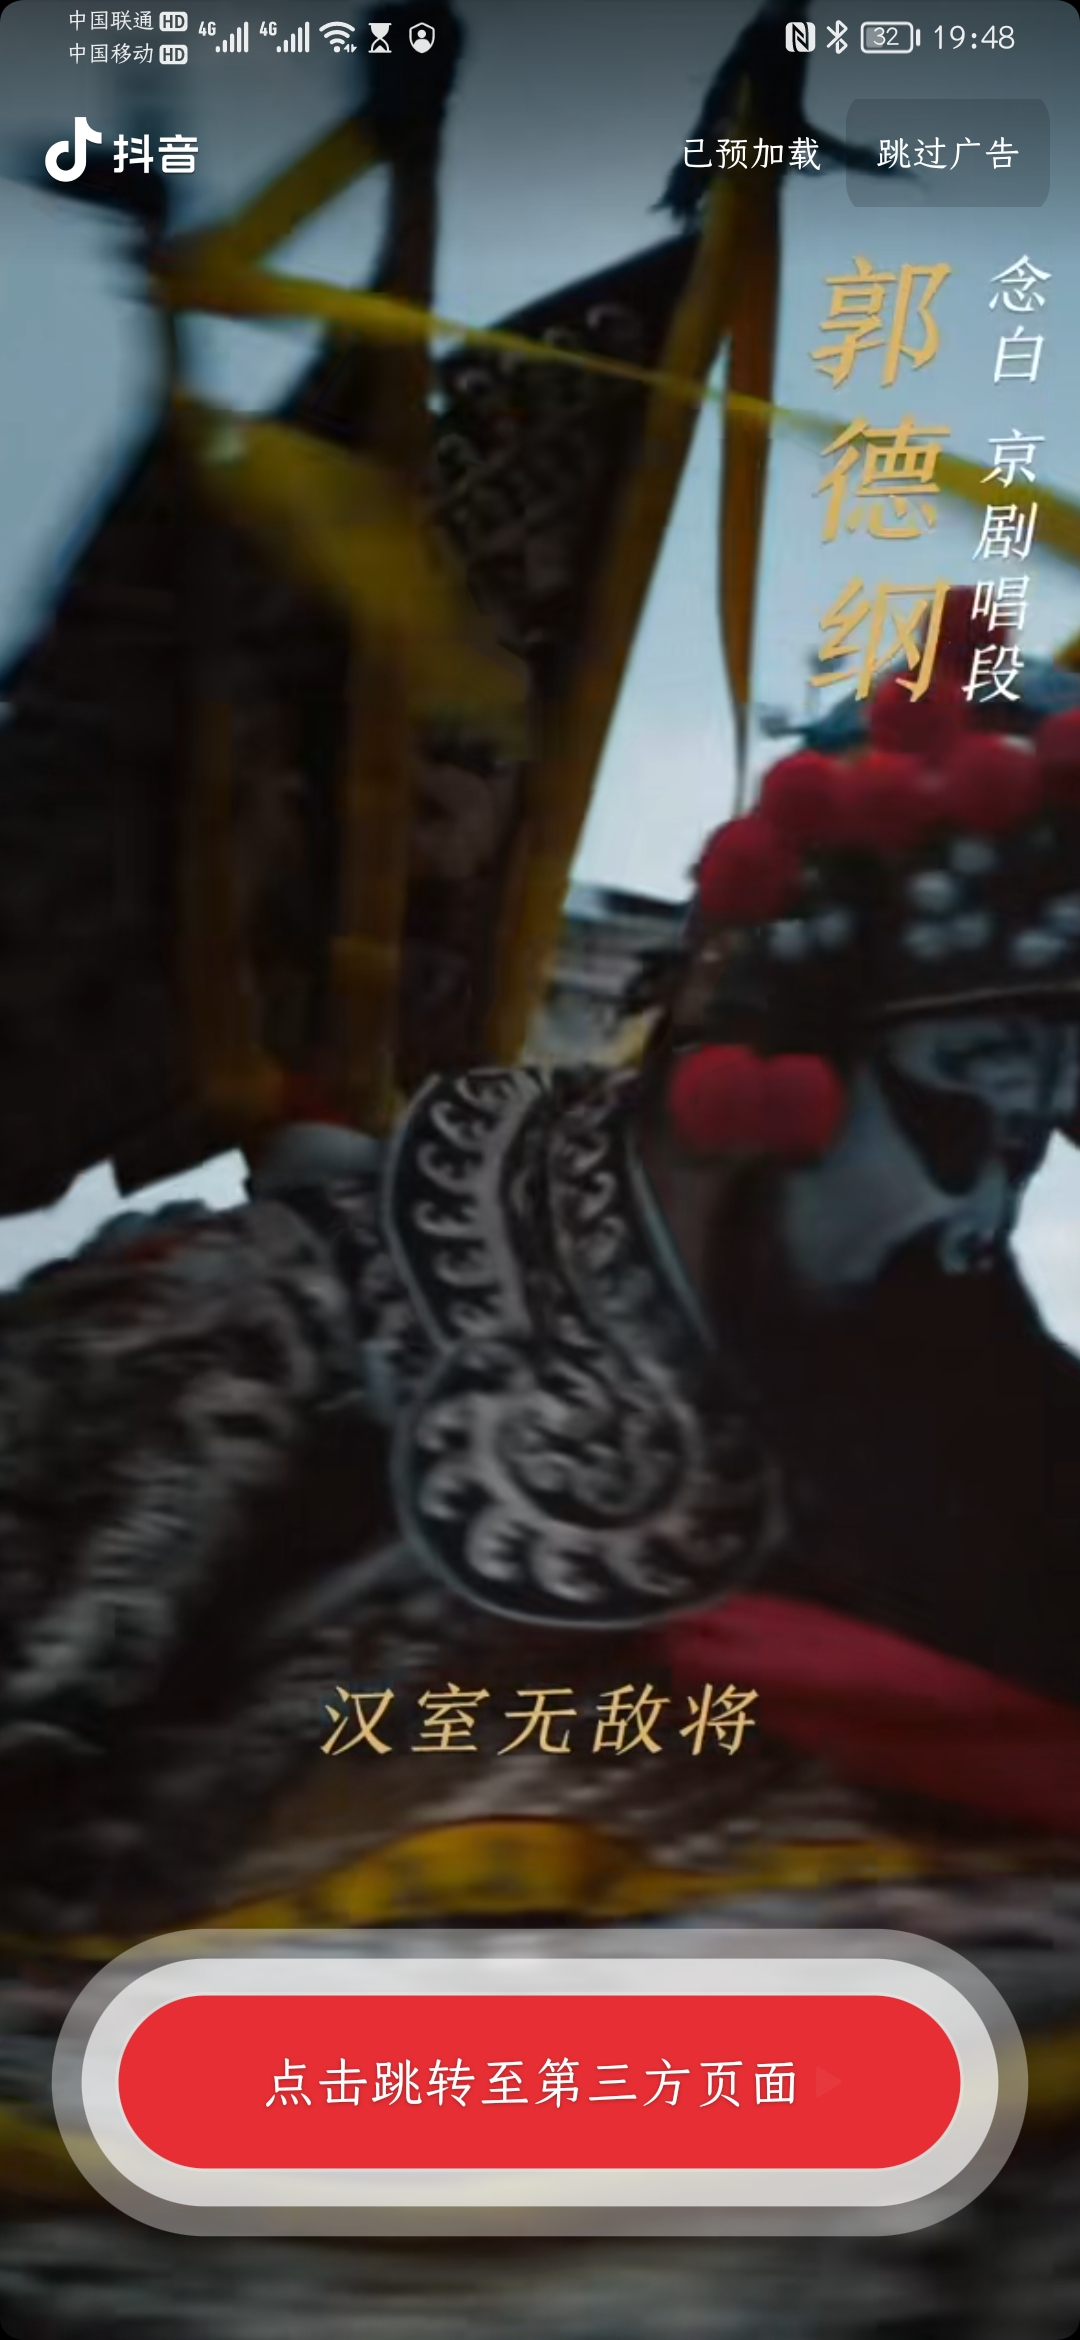skip: (852, 113, 1046, 198)
